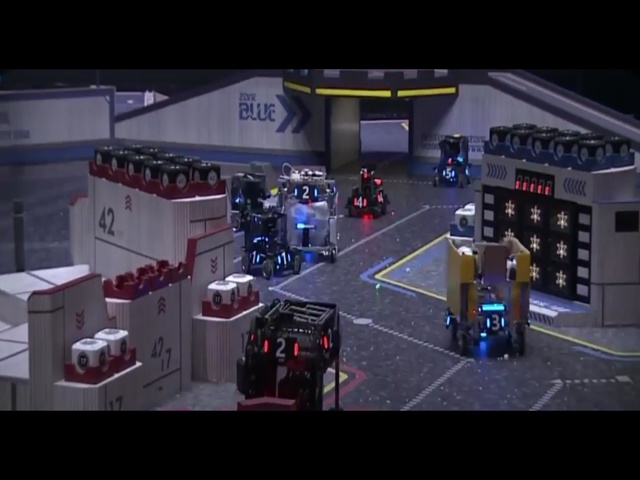plate: (261, 333, 303, 372), (293, 181, 324, 210), (479, 306, 511, 333), (318, 326, 339, 367), (275, 250, 297, 276), (436, 165, 461, 187), (248, 247, 266, 275), (352, 190, 370, 214), (374, 189, 389, 213)
